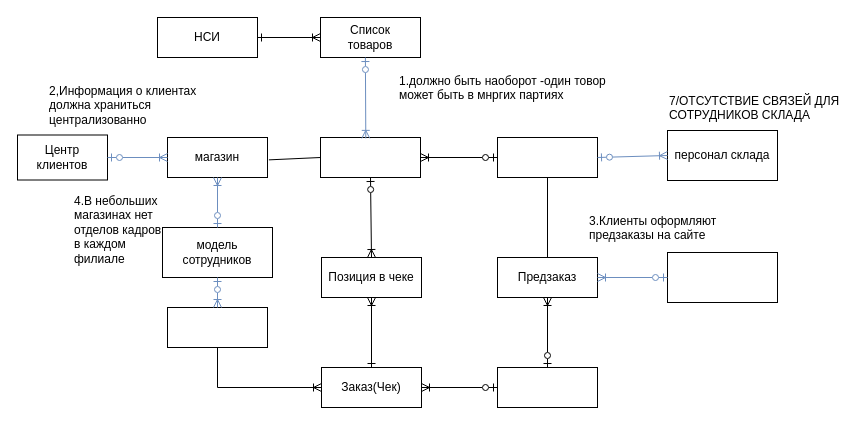
The diagram is 865 pixels wide and 425 high, and some of its shapes have lost their labels. The shapes that lost their labels are listed below. From the top down, each one's box as (x1, y1, x2, y2) in pixels, then its label:
(320, 136, 420, 178): Партия
(496, 136, 598, 178): Склад
(666, 252, 778, 302): Сайт
(166, 306, 268, 348): Сотрудник
(496, 366, 598, 408): Клиент
